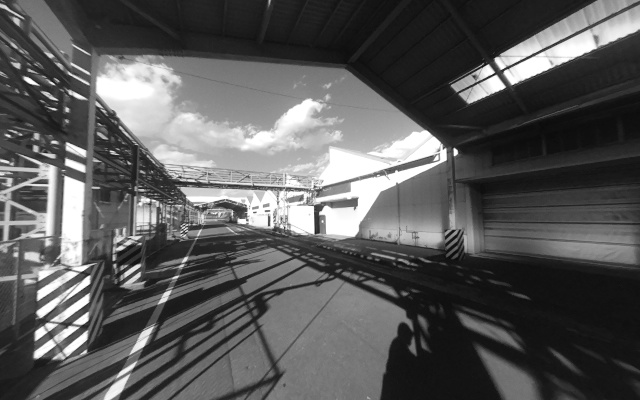bollard: (33, 260, 106, 360), (111, 234, 148, 291), (443, 227, 466, 263), (178, 223, 189, 239)
